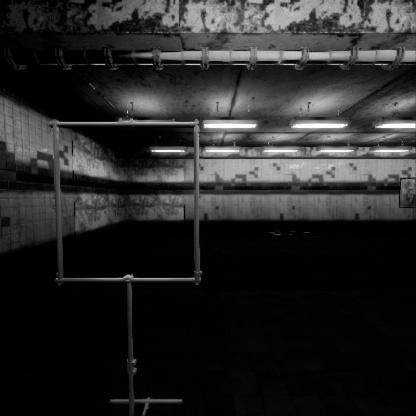gate: (53, 131, 213, 294)
